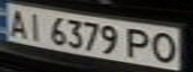3: (63, 17, 84, 50)
6: (45, 15, 69, 47)
7: (78, 19, 103, 53)
9: (96, 22, 124, 56)
A: (3, 7, 30, 38)
I: (24, 10, 48, 42)
O: (148, 29, 184, 64)
P: (124, 26, 157, 60)
